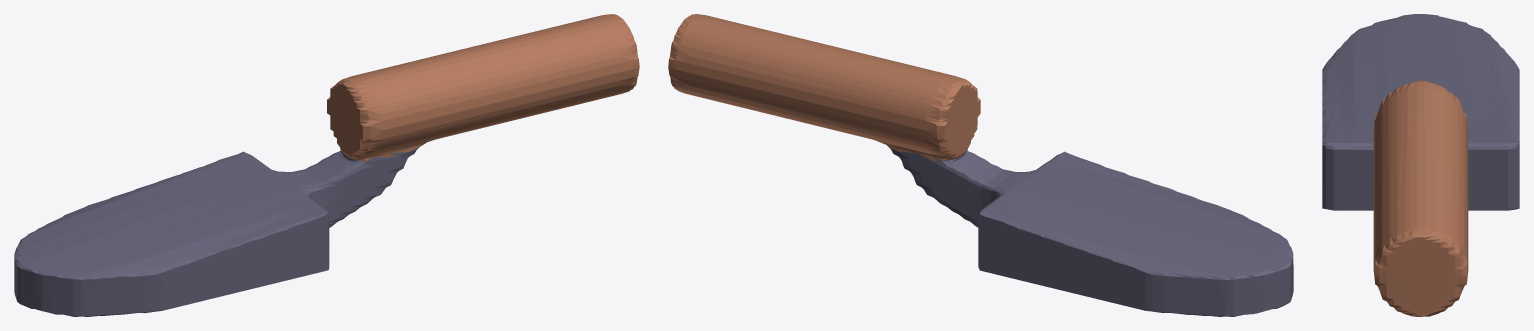
File: Spatula.fbx
3 views of the same model, side by side, from view 1: azimuth 30°, elevation 25°; view 2: azimuth 150°, elevation 25°; view 3: azimuth 270°, elevation 25° (orthographic). The views are drawn at different scales.
Visible parts, largest first — view 1: Spatula; view 2: Spatula; view 3: Spatula.
Part boxes in pixels (bbox=[...]): Spatula: bbox=[14, 14, 639, 316]; Spatula: bbox=[668, 14, 1293, 316]; Spatula: bbox=[1322, 14, 1519, 316].
Size of the model in its own units: 1063 by 241 by 260.
